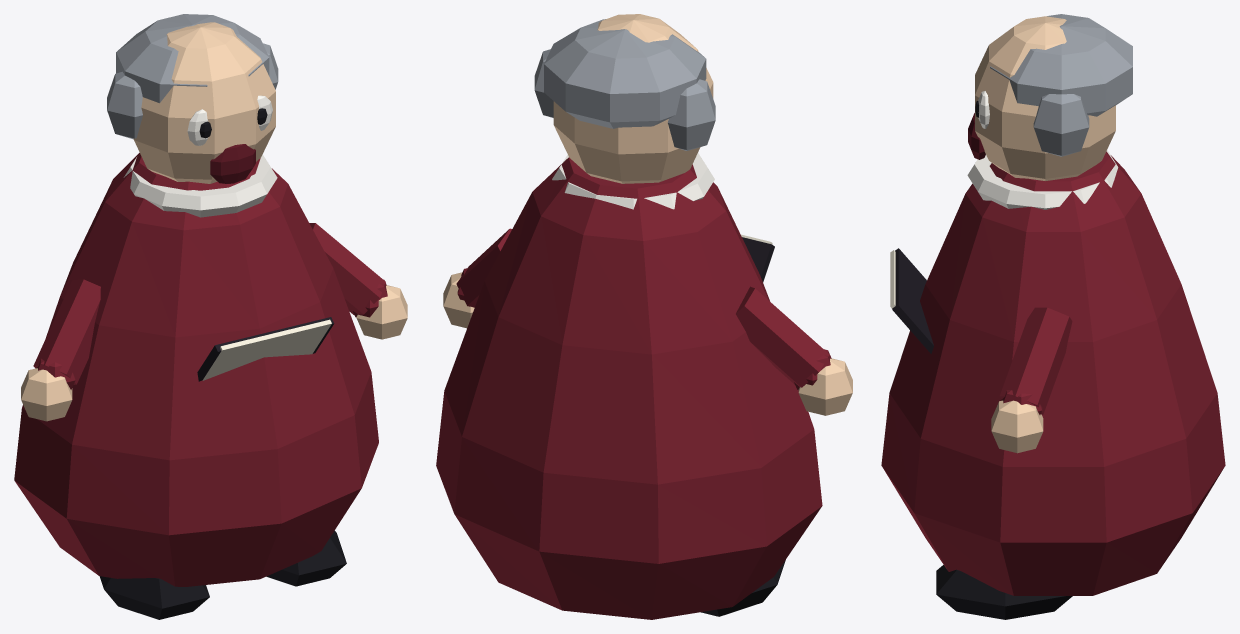
The model's file is npc_corista.glb.
3 renders of one model, left to right at view 1: azimuth 30°, elevation 25°; view 2: azimuth 150°, elevation 25°; view 3: azimuth 270°, elevation 25°, orthographic. The views are drawn at different scales.
Parts seen in each view (by area): view 1: body_robe_cloth, head_skin_crema, arms_robe_cloth, head_hair_gray, legs_black, body_white, arms_skin_crema, props_songbook_pages, face_mouth, face_white, props_songbook_cover; view 2: body_robe_cloth, head_hair_gray, head_skin_crema, arms_robe_cloth, arms_skin_crema, body_white, legs_black, props_songbook_cover; view 3: body_robe_cloth, head_hair_gray, head_skin_crema, arms_robe_cloth, legs_black, body_white, arms_skin_crema, props_songbook_cover.
Part boxes in pixels (x1=…): body_robe_cloth: x1=14, y1=152, x2=378, y2=586; head_skin_crema: x1=133, y1=22, x2=275, y2=183; arms_robe_cloth: x1=33, y1=223, x2=387, y2=389; head_hair_gray: x1=107, y1=14, x2=278, y2=138; legs_black: x1=99, y1=530, x2=346, y2=619; body_white: x1=123, y1=154, x2=277, y2=217; arms_skin_crema: x1=21, y1=285, x2=407, y2=421; props_songbook_pages: x1=202, y1=319, x2=331, y2=380; face_mouth: x1=210, y1=144, x2=255, y2=183; face_white: x1=187, y1=95, x2=272, y2=145; props_songbook_cover: x1=197, y1=317, x2=334, y2=381; body_robe_cloth: x1=436, y1=157, x2=822, y2=619; head_hair_gray: x1=534, y1=19, x2=715, y2=150; head_skin_crema: x1=553, y1=14, x2=713, y2=183; arms_robe_cloth: x1=456, y1=228, x2=831, y2=389; arms_skin_crema: x1=443, y1=272, x2=852, y2=415; body_white: x1=552, y1=153, x2=714, y2=209; legs_black: x1=701, y1=560, x2=785, y2=616; props_songbook_cover: x1=742, y1=237, x2=774, y2=282; body_robe_cloth: x1=881, y1=151, x2=1225, y2=595; head_hair_gray: x1=990, y1=14, x2=1132, y2=156; head_skin_crema: x1=975, y1=16, x2=1115, y2=180; arms_robe_cloth: x1=999, y1=307, x2=1072, y2=414; legs_black: x1=936, y1=565, x2=1072, y2=619; body_white: x1=967, y1=150, x2=1118, y2=209; arms_skin_crema: x1=991, y1=400, x2=1043, y2=453; props_songbook_cover: x1=892, y1=248, x2=933, y2=353.
Bounding box in the file's own units: 1.13 × 1.53 × 0.86.
